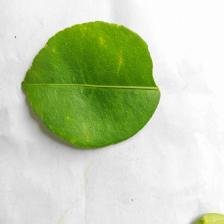greening: (16, 14, 166, 154)
